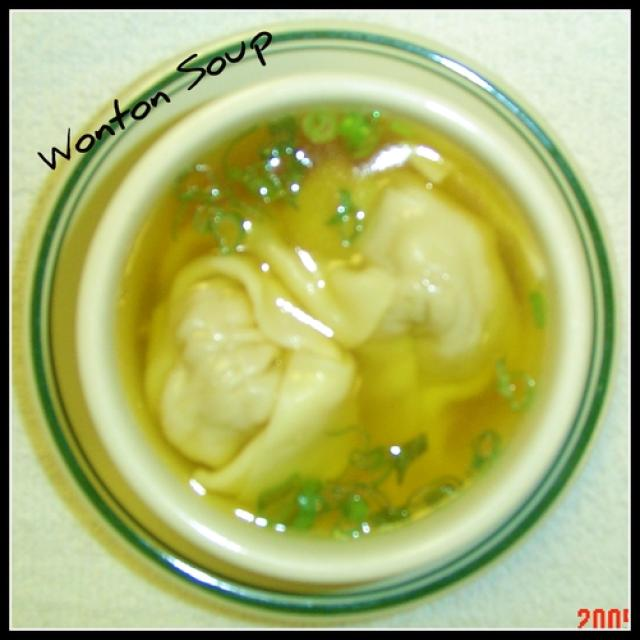汤锅炖物: (40, 42, 599, 606)
